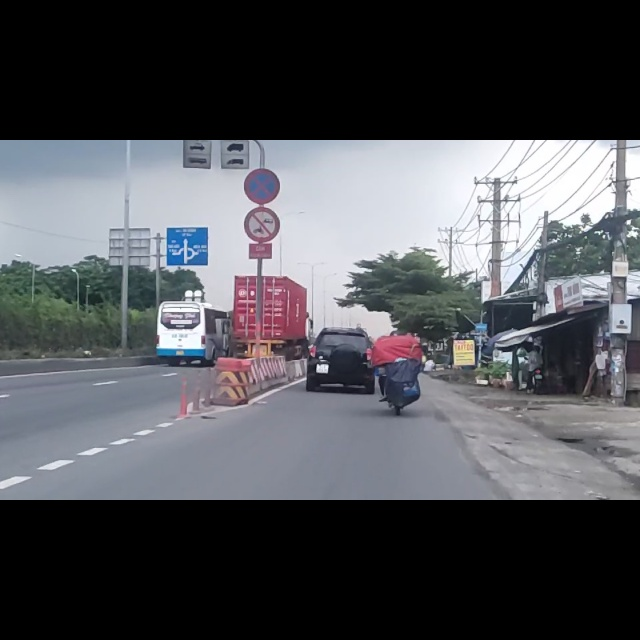bien_cam: (243, 50, 281, 114), (244, 118, 281, 182)
